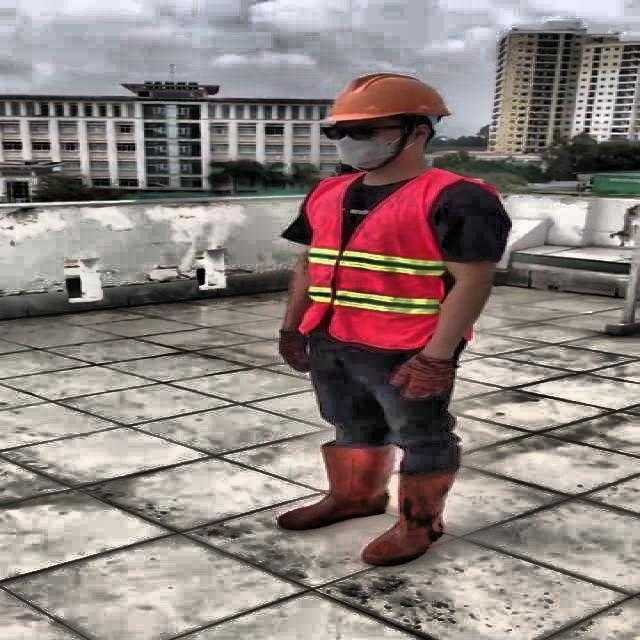safety_helmet: (322, 70, 448, 124)
safety_jacket: (302, 171, 468, 345)
